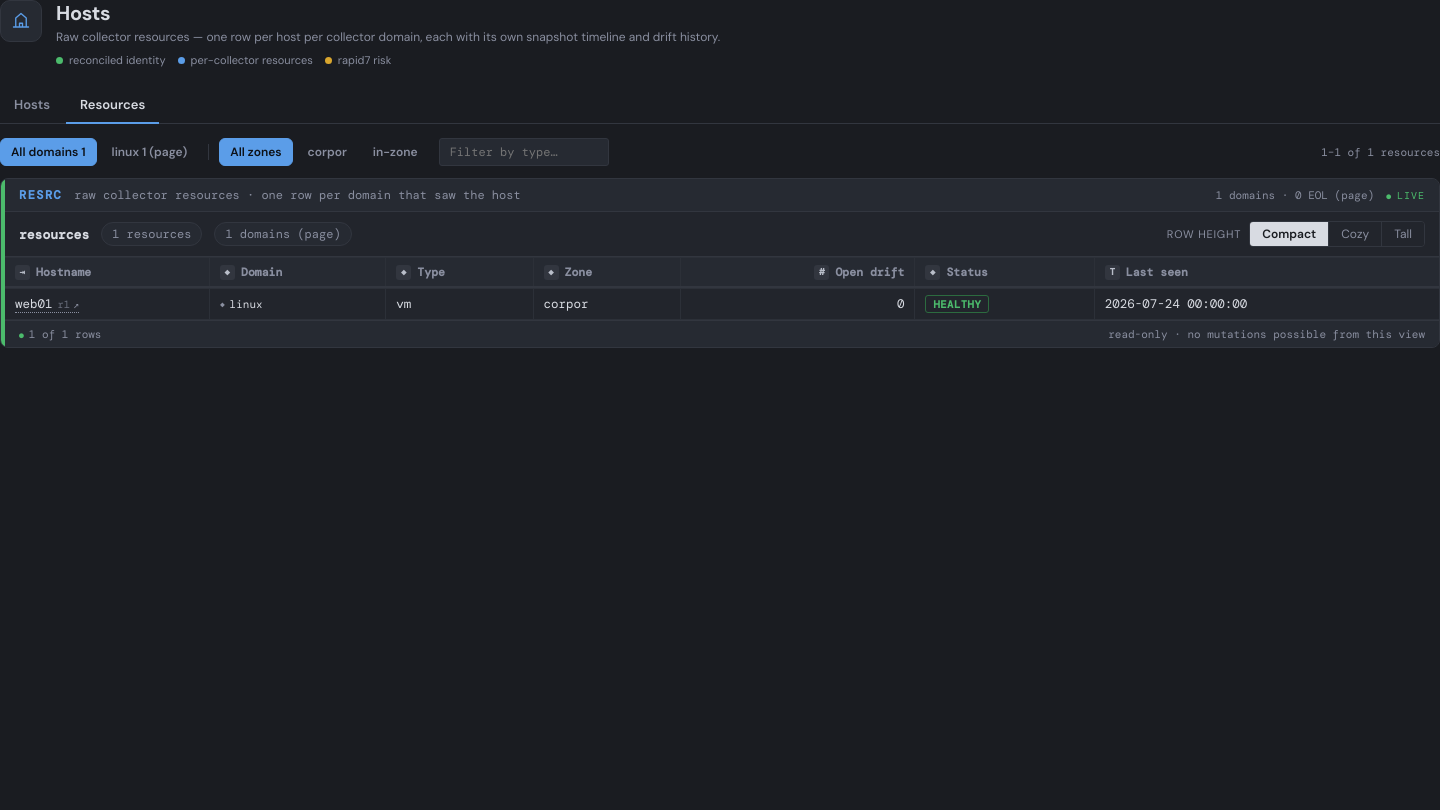
Scenario: Resources tab — drawer drift/snapshot fetch-failure handling (ported from Resources.test.tsx) › still shows the honest empty-state copy when the fetches genuinely succeed with zero rows
Expected: the button "web01r1" is shown, [15,296,79,312]
Click the text "vm" at {"x": 722, "y": 304}, box [5,288,1439,320]
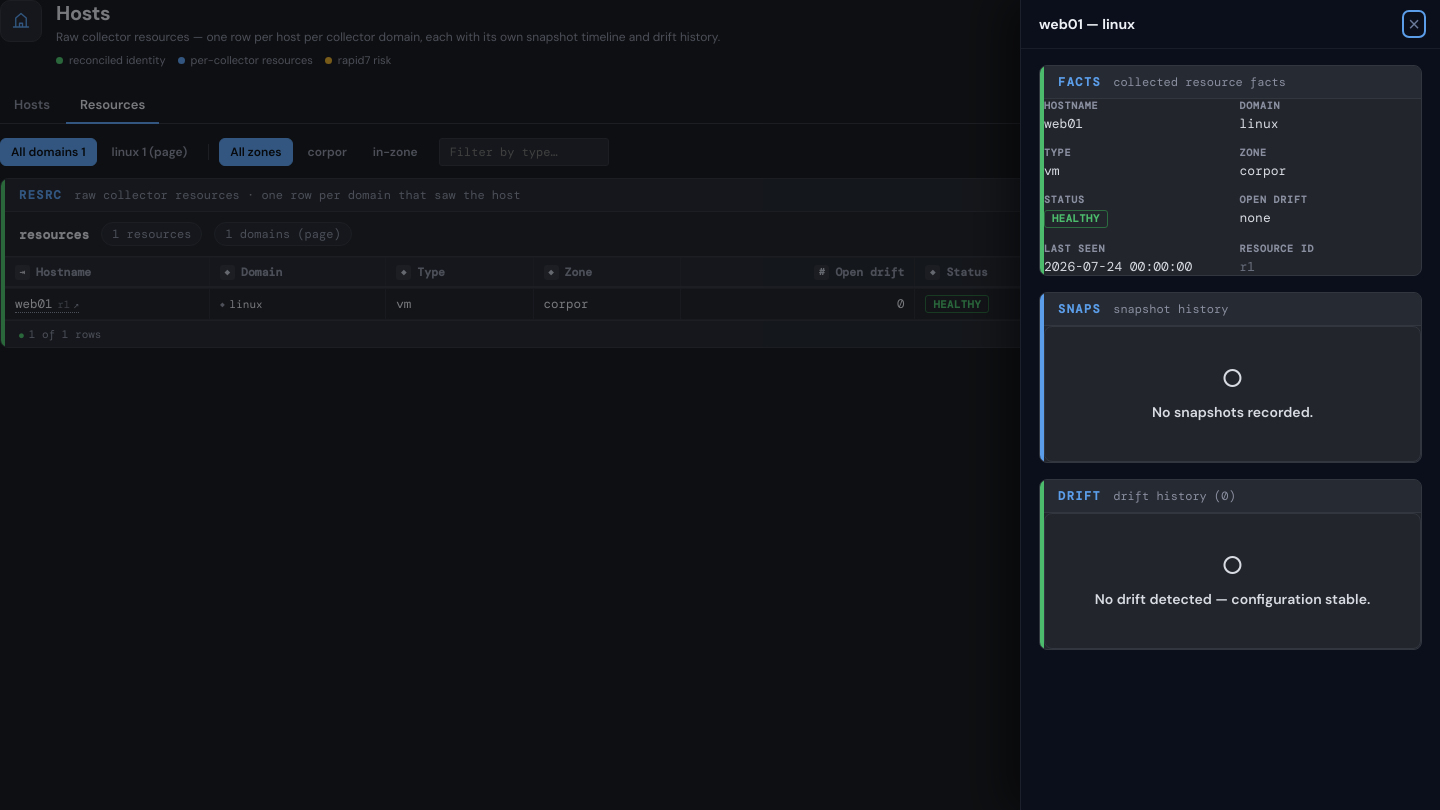
Now the text "No snapshots recorded." is shown, box [1152,402,1313,420]
Now the text "No drift detected — configuration stable." is shown, box [1095,590,1370,608]
